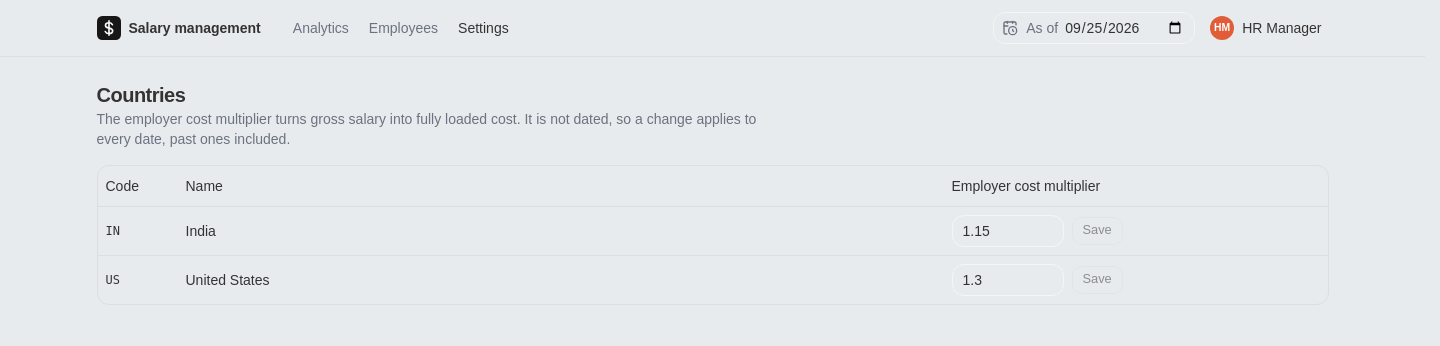
Test: countries › refuses a fifth decimal place without a request
Replace the text in the field labelled "India" with "1.45678" at (1008, 230), box 952,214 -> 1064,246
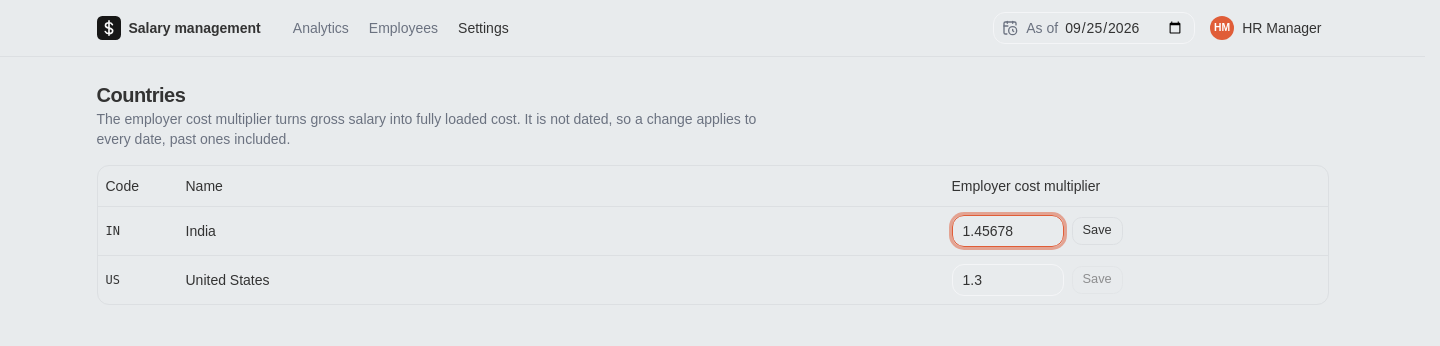
Click the button "Save" in the row of "India" at (1097, 230), box 1072,216 -> 1123,244
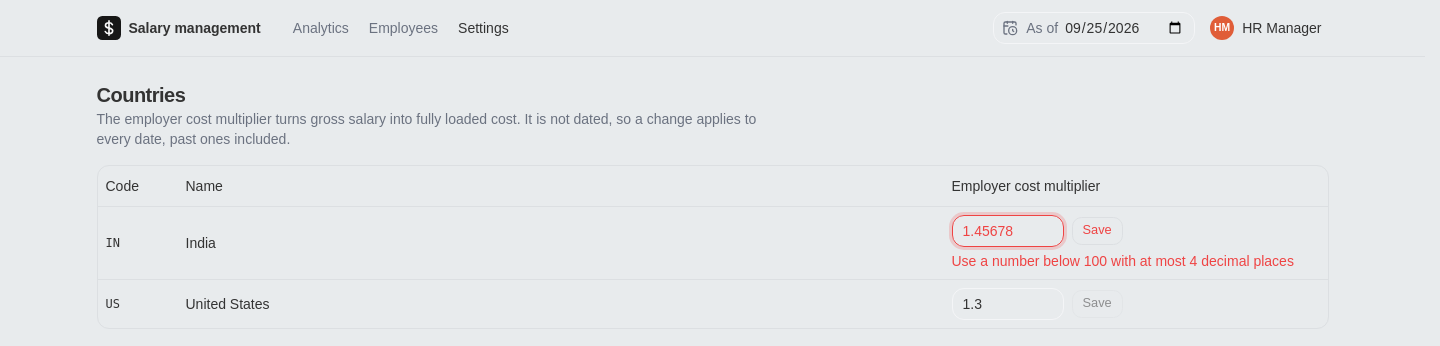
Expected: the text "Use a number below 100 with at most 4 decimal places" is shown, 952,250 -> 1320,270
